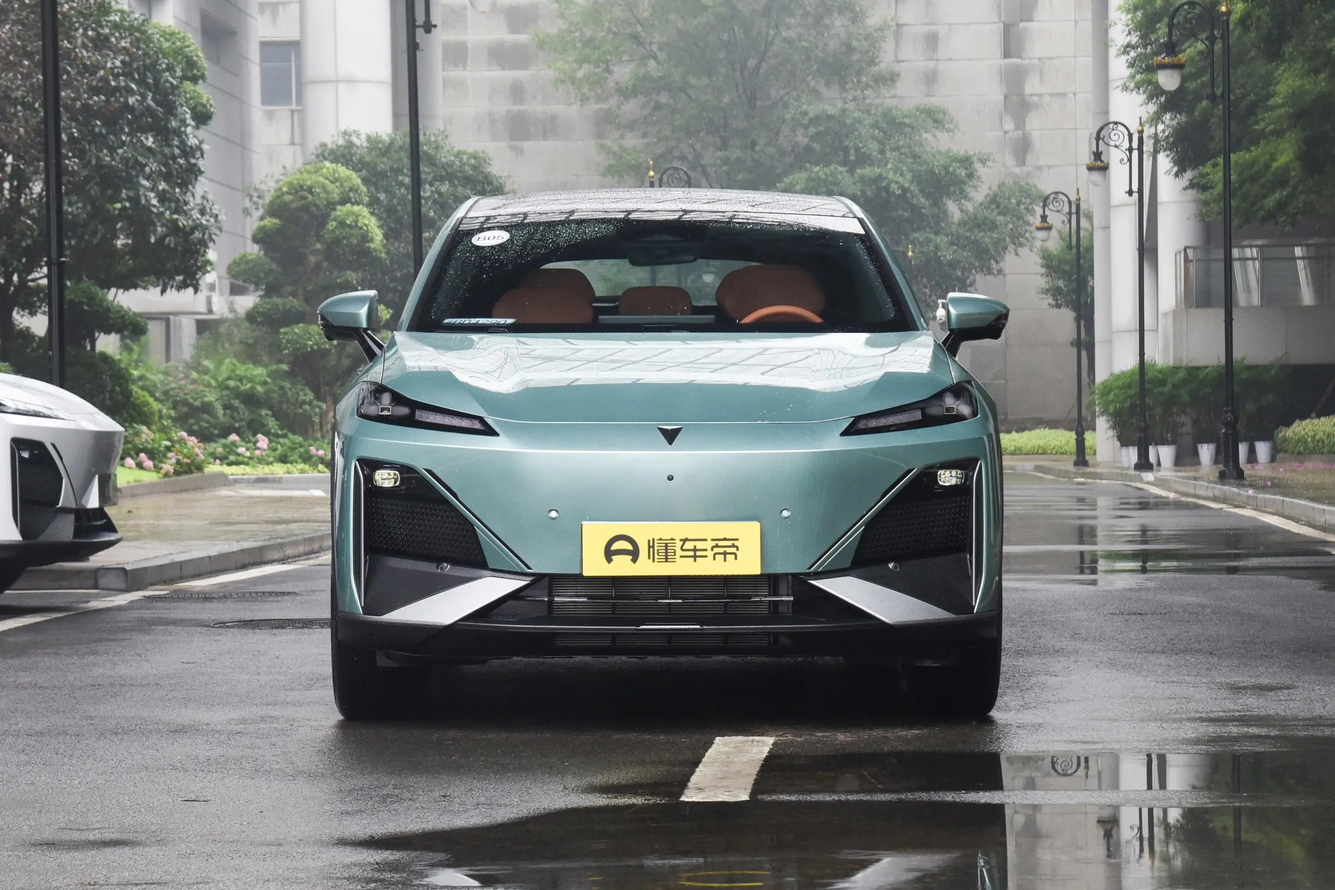Deepal: (657, 426, 683, 446)
